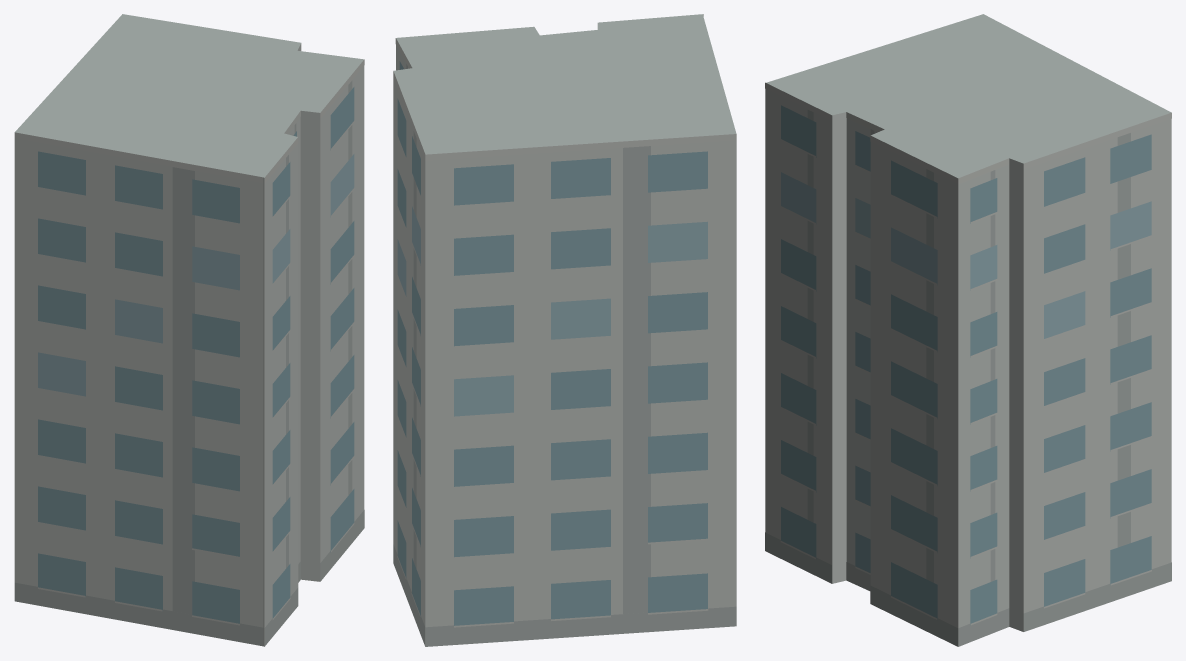
The model's file is survey-upis-32677880.glb.
The picture shows the model from 3 angles, left to right: view 1: azimuth 30°, elevation 25°; view 2: azimuth 150°, elevation 25°; view 3: azimuth 270°, elevation 25°; orthographic projection. The views are drawn at different scales.
Visible parts, largest first — view 1: survey-upis-32677880.tmp; view 2: survey-upis-32677880.tmp; view 3: survey-upis-32677880.tmp.
Part boxes in pixels (x1,y1,x2,y2): survey-upis-32677880.tmp: (14, 14, 364, 646); survey-upis-32677880.tmp: (393, 14, 736, 646); survey-upis-32677880.tmp: (765, 14, 1171, 646).
Size of the model in its own units: 14.11 by 18.75 by 14.75.
